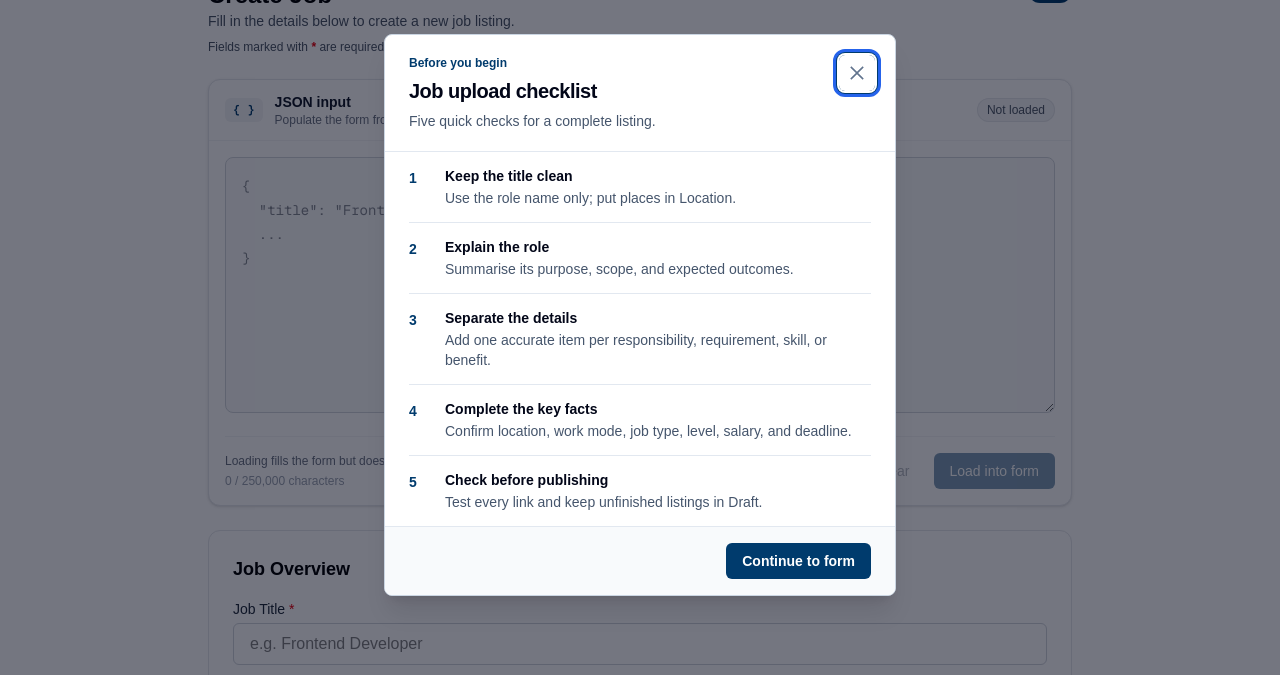
Test: multi-location vacancy form › adds and removes compact location rows while keeping focus predictable
This screenshot has width=1280, height=675.
Click the button "Continue to form": (799, 561) [726,543,871,579]
(page scrolled)
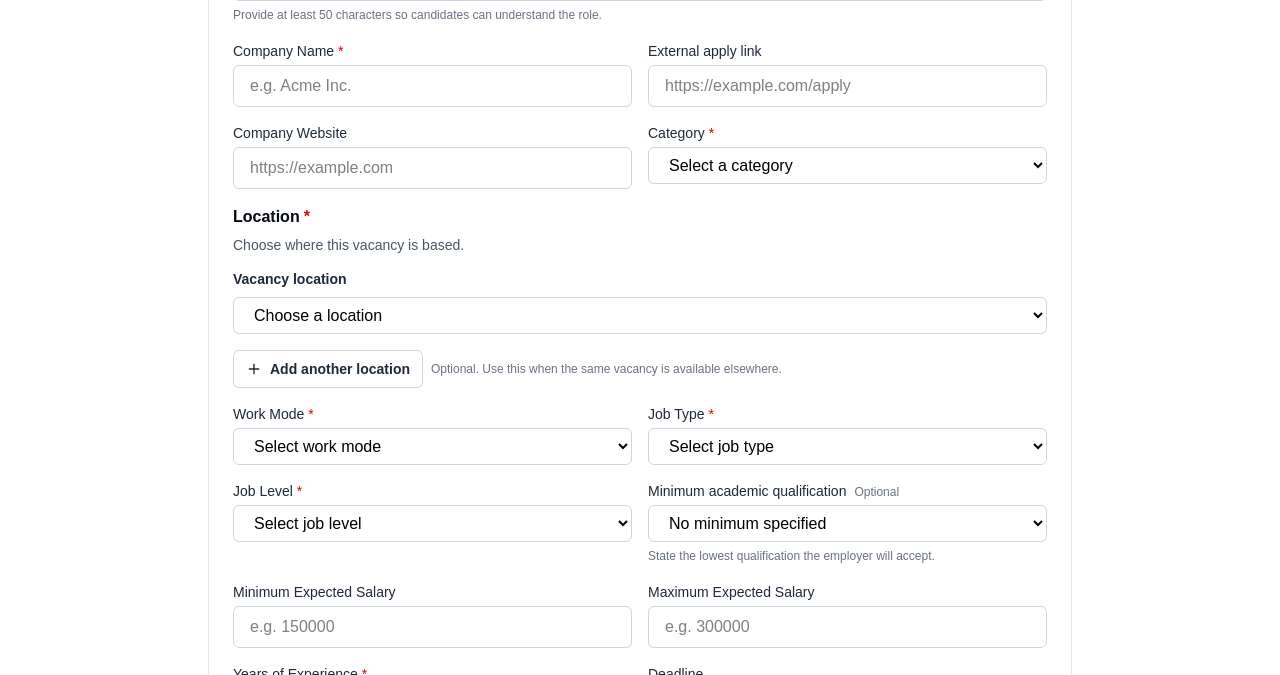
Check: the text "Choose where this vacancy is based." is shown, box [233,237,464,253]
Check: the text "Additional locations" is not shown
Select "Abuja (Federal Capital Territory)" in the dropdown labelled "Vacancy location": (640, 316) [233,297,1047,334]
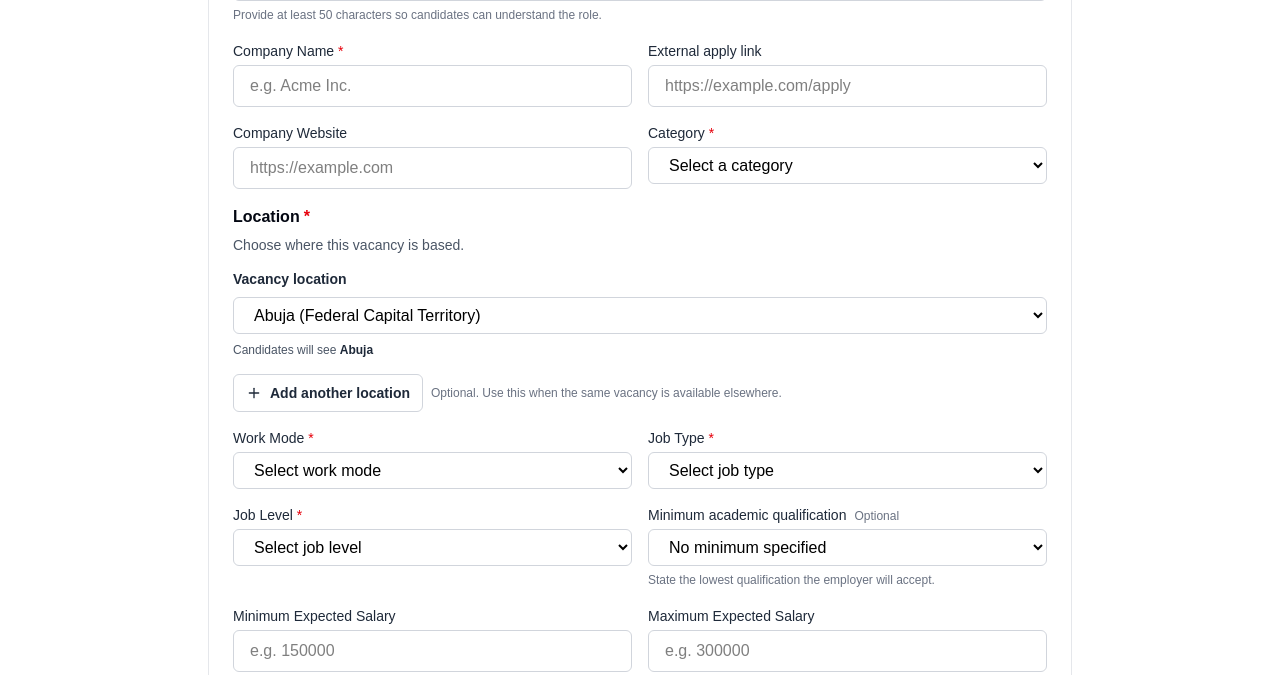
Click the button "Add another location": (328, 393) [233,374,423,412]
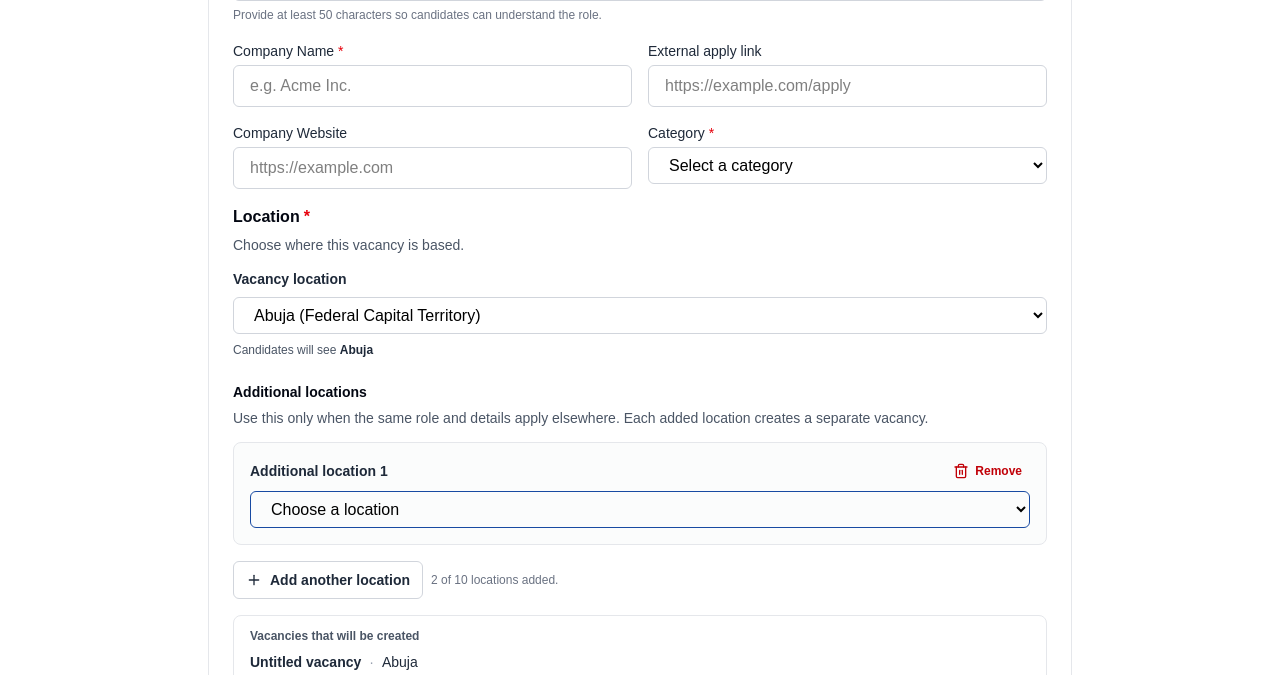
Check: the text "Additional locations" is shown, box [233,384,367,400]
Check: the text "Each added location creates a separate vacancy" is shown, box [233,410,928,426]
Select "Ilorin" in the dropdown labelled "Additional location 1": (640, 510) [250,491,1030,528]
Check: the text "Untitled vacancy" is shown 2 times
Click the button with aria-label "Remove additional location 1": (988, 471) [945,459,1030,483]
(page scrolled)
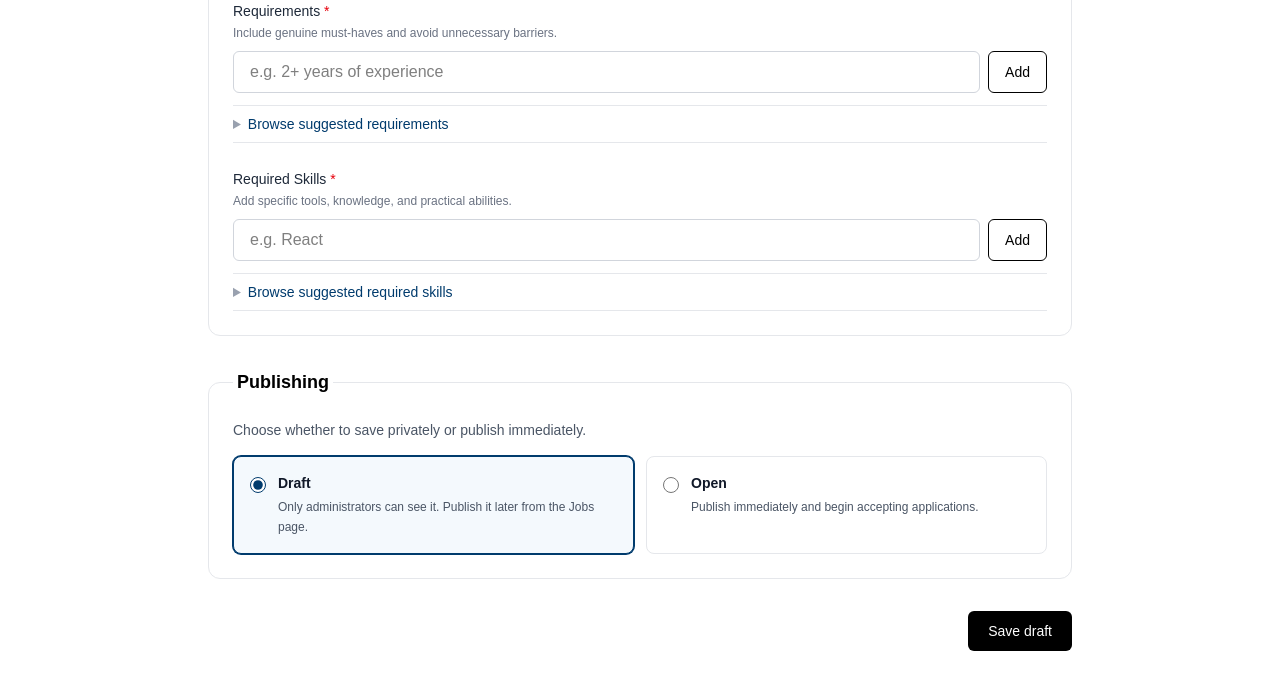
Check: the label labelled "Additional location 1" is gone
Check: the button "Save draft" is shown, box [968,611,1072,651]
